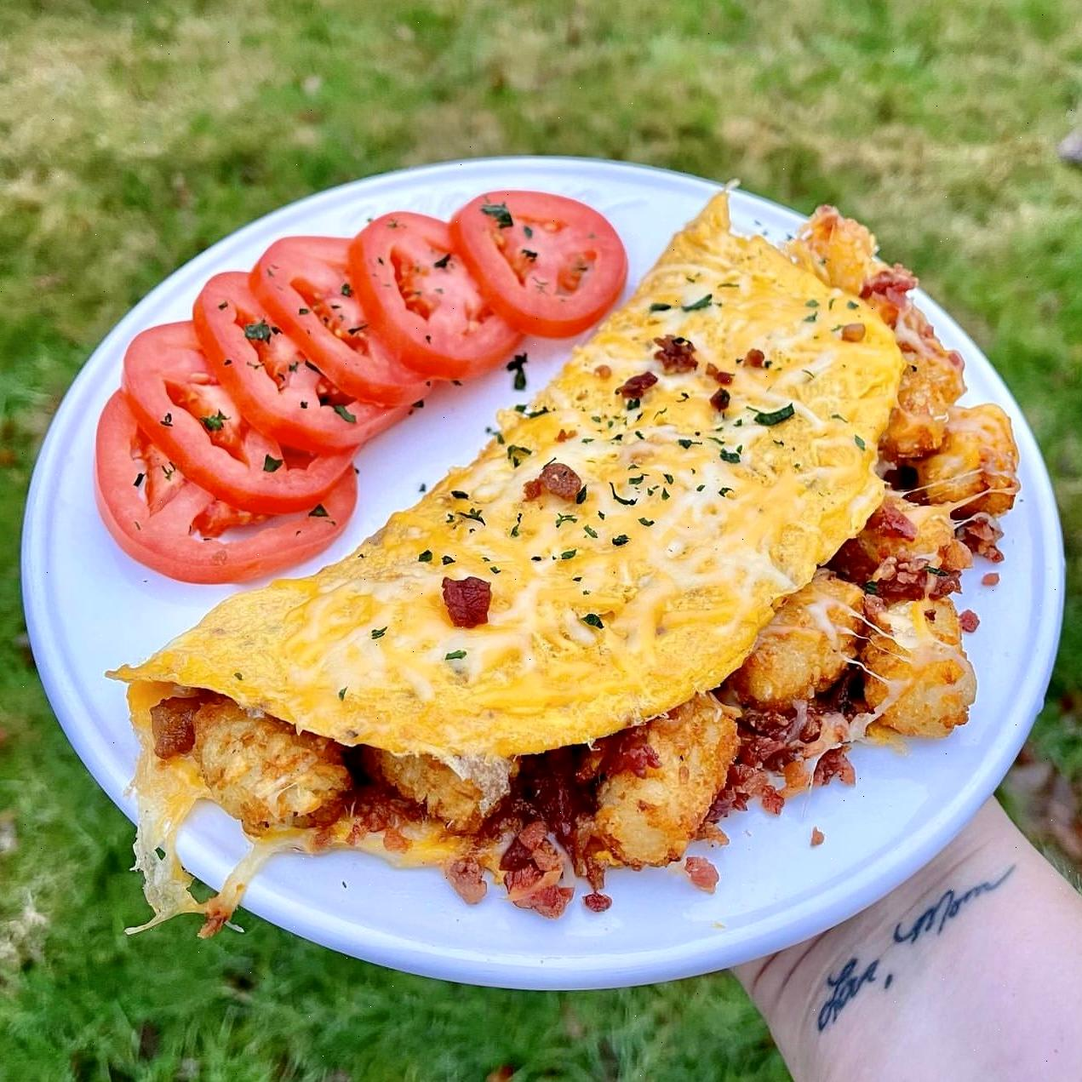omelette: (235, 327, 1044, 754)
salad: (98, 200, 713, 488)
